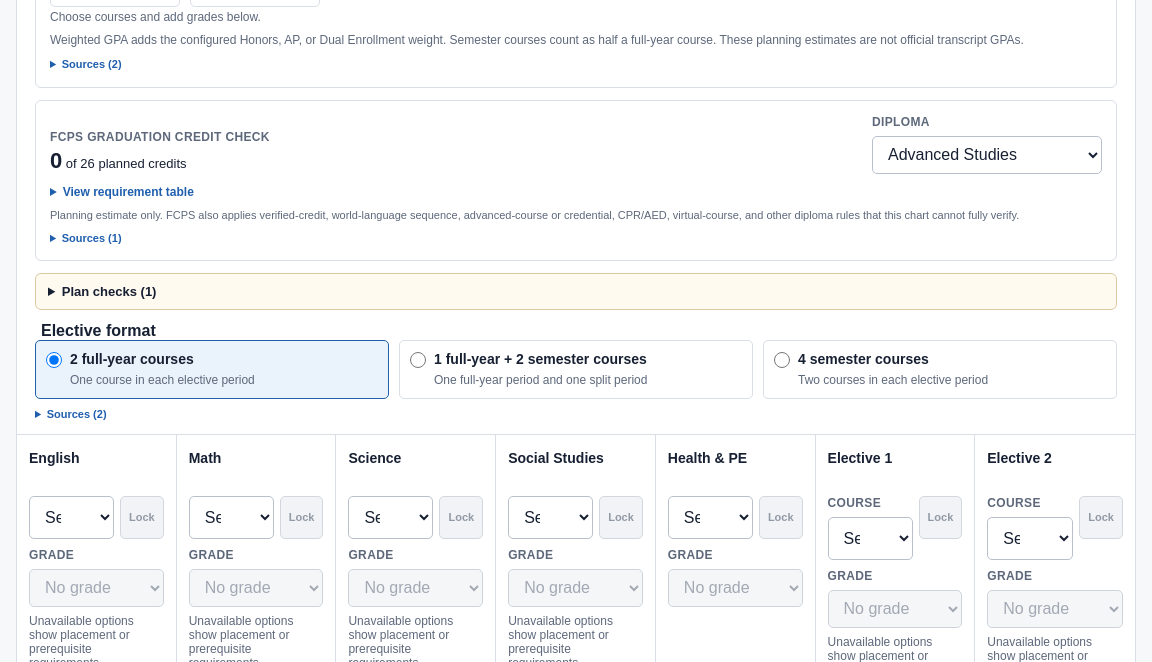
Test case: elective formats and duplicate prevention › switches between two full-year, mixed, and four-semester layouts
This screenshot has width=1152, height=662.
(page scrolled)
Expected: the number of dropdowns labelled "Course" is 2, x1=828 y1=517 x2=913 y2=560; x1=987 y1=517 x2=1073 y2=560
Click the radio button labelled "1 full-year + 2 semester courses".
click(418, 360)  # box x1=410 y1=352 x2=426 y2=368
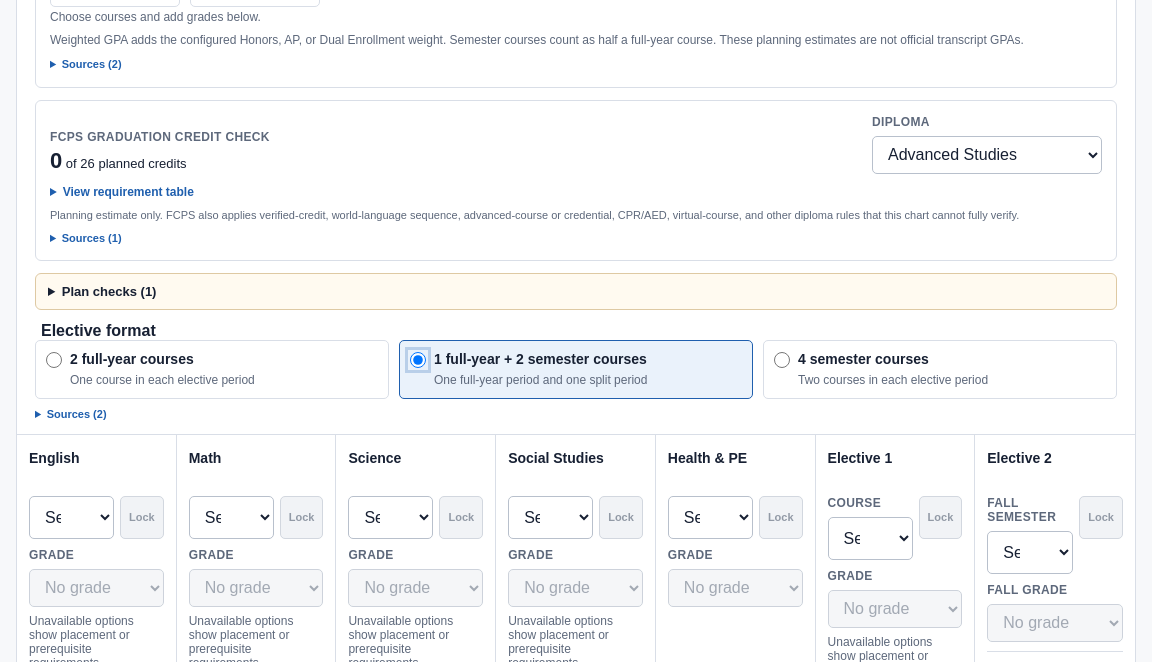
Expected: the number of dropdowns labelled "Course" is 1, x1=828 y1=517 x2=913 y2=560
Expected: the number of dropdowns labelled "Fall semester" is 1, x1=987 y1=531 x2=1073 y2=574
Click the radio button labelled "4 semester courses Two courses in each elective period".
click(782, 360)  # box x1=774 y1=352 x2=790 y2=368
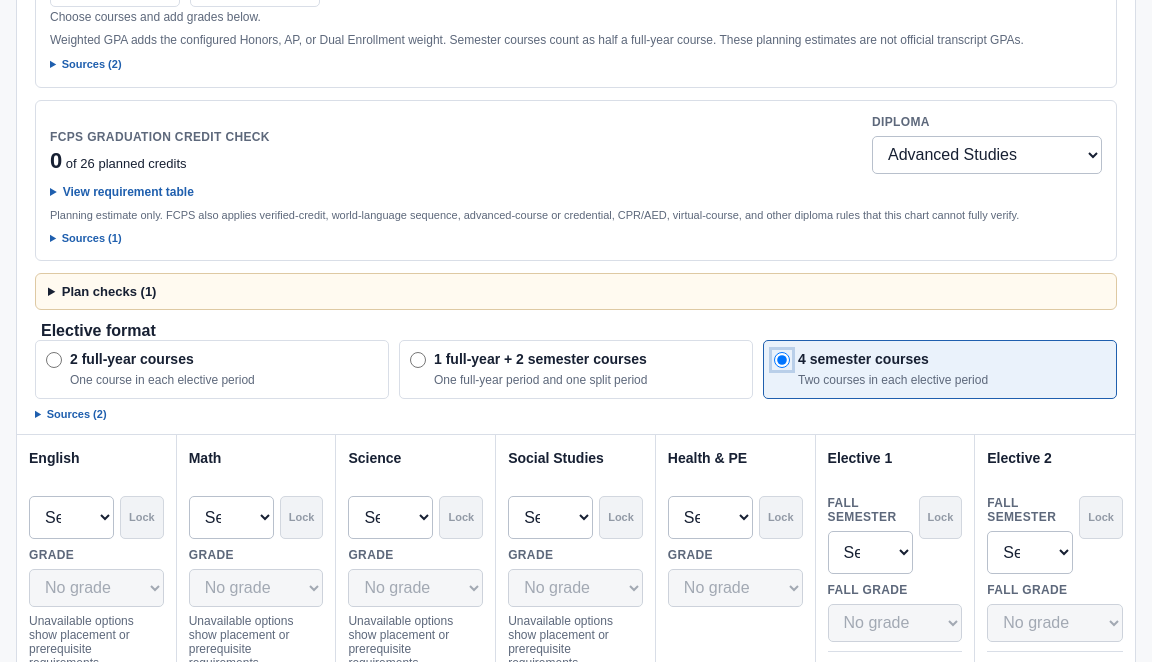
Expected: the number of dropdowns labelled "Fall semester" is 2, x1=828 y1=531 x2=913 y2=574; x1=987 y1=531 x2=1073 y2=574
